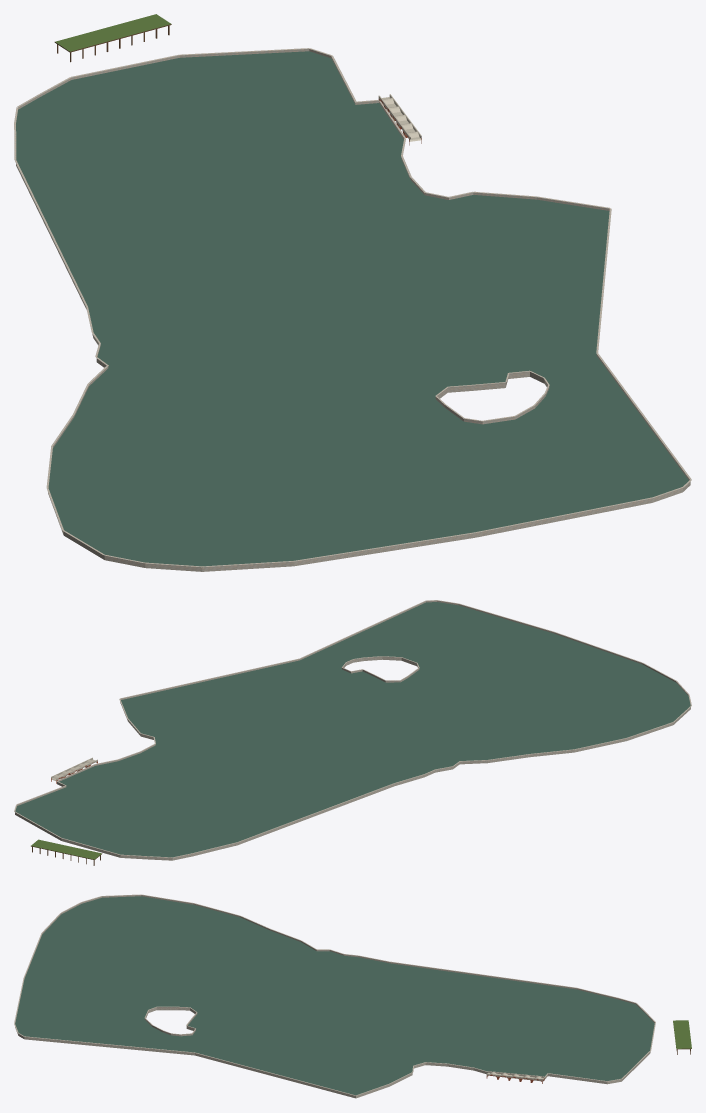
3 views of the same model, one above another, from view 1: azimuth 30°, elevation 25°; view 2: azimuth 150°, elevation 25°; view 3: azimuth 270°, elevation 25° (orthographic). The views are drawn at different scales.
Visible parts, largest first — view 1: lake-water, lake-edge, lake-bridges; view 2: lake-water, lake-edge, lake-bridges; view 3: lake-water, lake-edge, lake-bridges.
Boxes of the visible parts, left/top/right/bottom form: lake-water: left=16, top=51, right=688, bottom=566; lake-edge: left=14, top=48, right=691, bottom=571; lake-bridges: left=54, top=14, right=421, bottom=145; lake-water: left=15, top=602, right=690, bottom=857; lake-edge: left=14, top=600, right=691, bottom=860; lake-bridges: left=31, top=757, right=102, bottom=865; lake-water: left=15, top=896, right=654, bottom=1095; lake-edge: left=14, top=894, right=655, bottom=1098; lake-bridges: left=486, top=1020, right=691, bottom=1083.
Bounding box in the file's own units: 249 × 5.05 × 355.
7 materials, 2 textured.
